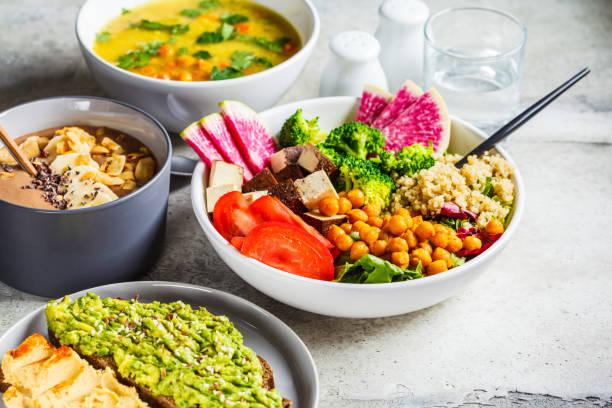Braised Crucian Carp: (195, 95, 519, 318), (2, 281, 322, 406), (1, 95, 173, 297), (78, 0, 319, 138)
